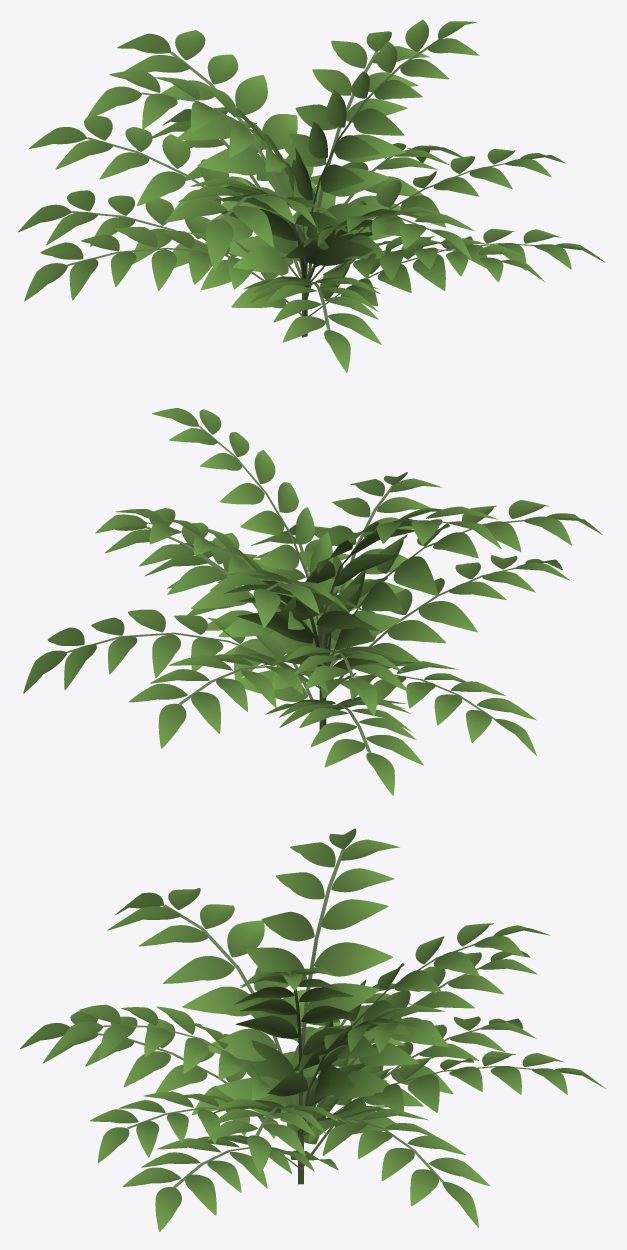
The model's file is Plant_09.fbx.
The picture shows the model from 3 angles, top to bottom: view 1: azimuth 30°, elevation 25°; view 2: azimuth 150°, elevation 25°; view 3: azimuth 270°, elevation 25°; orthographic projection. The views are drawn at different scales.
Parts seen in each view (by area): view 1: Plant_09_LOD0; view 2: Plant_09_LOD0; view 3: Plant_09_LOD0.
Part boxes in pixels (x1,y1,x2,y2): Plant_09_LOD0: [18, 19, 605, 372]; Plant_09_LOD0: [23, 408, 602, 795]; Plant_09_LOD0: [20, 828, 605, 1231].
Size of what is drawn, in the model's own units: 0.7451 by 0.4089 by 0.7718.
